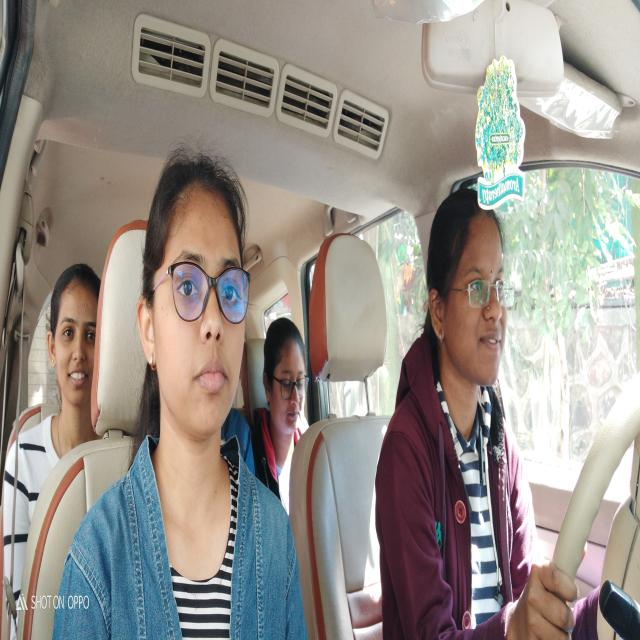person: (139, 139, 252, 435), (427, 192, 520, 394), (45, 254, 111, 444), (261, 305, 311, 457)
